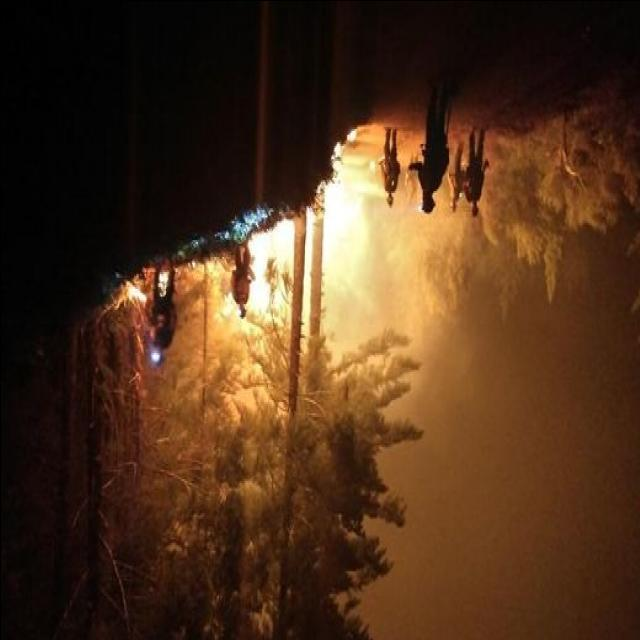Fire: (113, 134, 360, 348)
